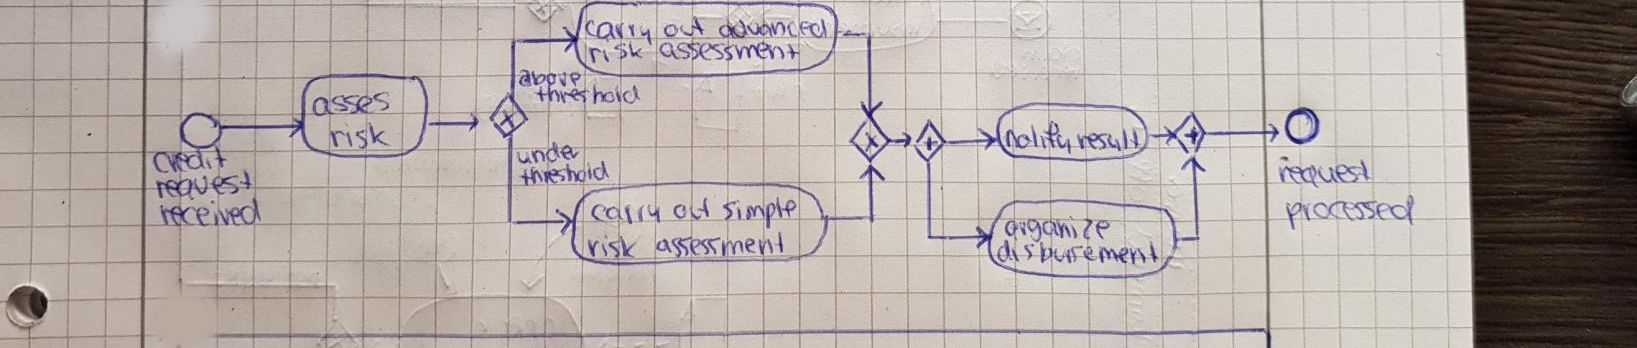above: (513, 64, 585, 91)
advanced: (712, 11, 831, 45)
asses: (308, 86, 396, 122)
assessment: (650, 226, 790, 263), (653, 34, 806, 66)
carry: (582, 16, 658, 50), (585, 198, 666, 228)
credit: (148, 139, 233, 179)
disbursement: (991, 234, 1165, 269)
notify: (1001, 116, 1074, 160)
organize: (999, 210, 1114, 248)
out: (659, 11, 710, 44), (667, 192, 714, 227)
processed: (1279, 188, 1421, 237)
received: (155, 193, 267, 232)
request: (151, 163, 259, 205), (1271, 152, 1377, 192)
result: (1072, 124, 1145, 155)
risk: (324, 117, 395, 153), (583, 34, 649, 69), (582, 229, 645, 263)
simple: (716, 190, 802, 235)
threshold: (528, 79, 646, 109), (515, 157, 613, 191)
under: (512, 137, 585, 169)
